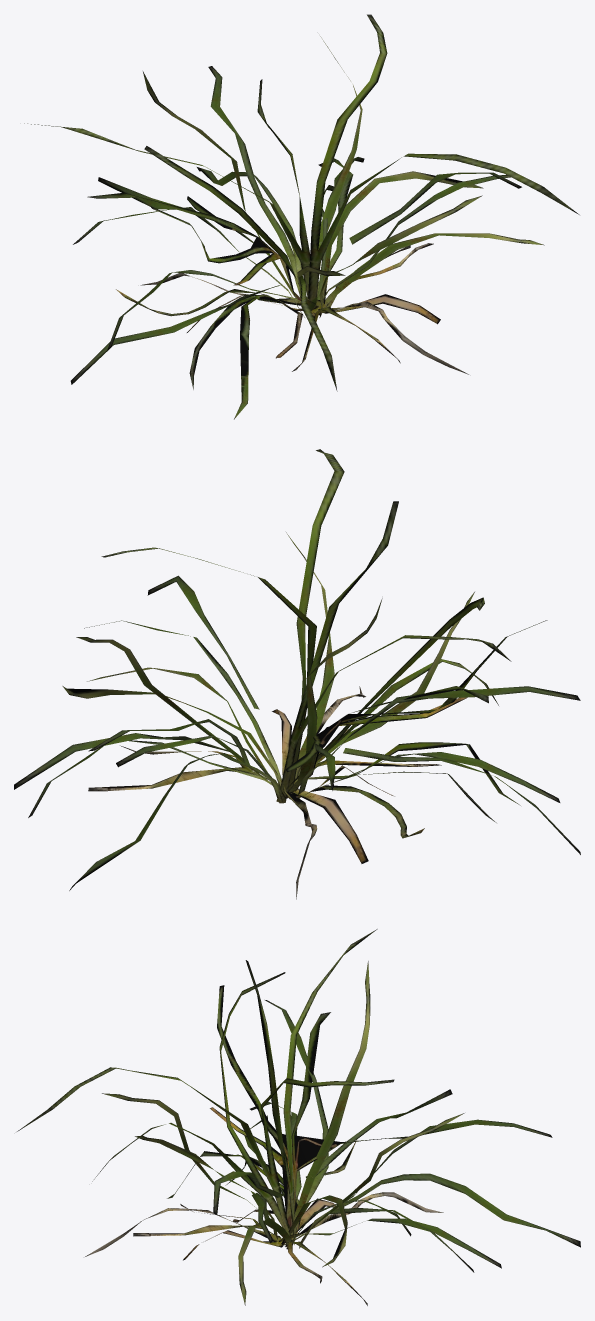
Rendered from SM_Grass_08.gltf.
3 renders of one model, top to bottom at view 1: azimuth 30°, elevation 25°; view 2: azimuth 150°, elevation 25°; view 3: azimuth 270°, elevation 25°, orthographic. The views are drawn at different scales.
Visible parts, largest first — view 1: SM_Grass_08; view 2: SM_Grass_08; view 3: SM_Grass_08.
Part boxes in pixels (x1,y1,x2,y2): SM_Grass_08: [24, 14, 579, 419]; SM_Grass_08: [14, 449, 580, 899]; SM_Grass_08: [17, 929, 580, 1305].
Bounding box in the file's own units: 0.166 × 0.1001 × 0.1899.
1 material, 1 textured.
